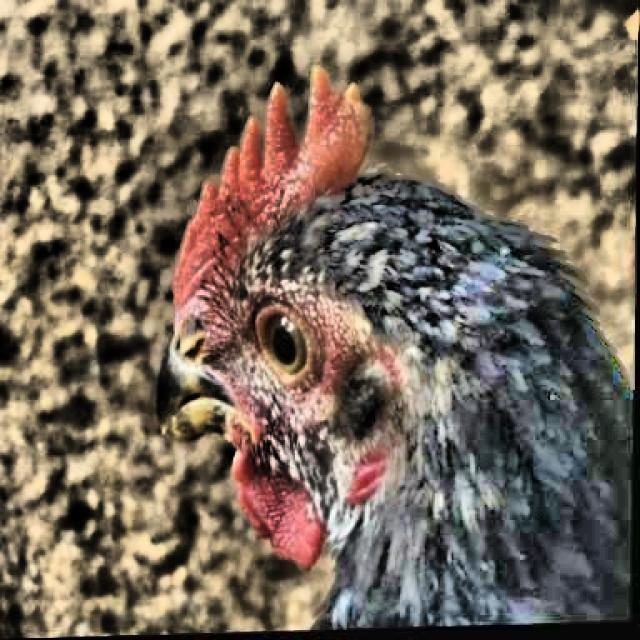Healthy: (243, 288, 325, 407)
